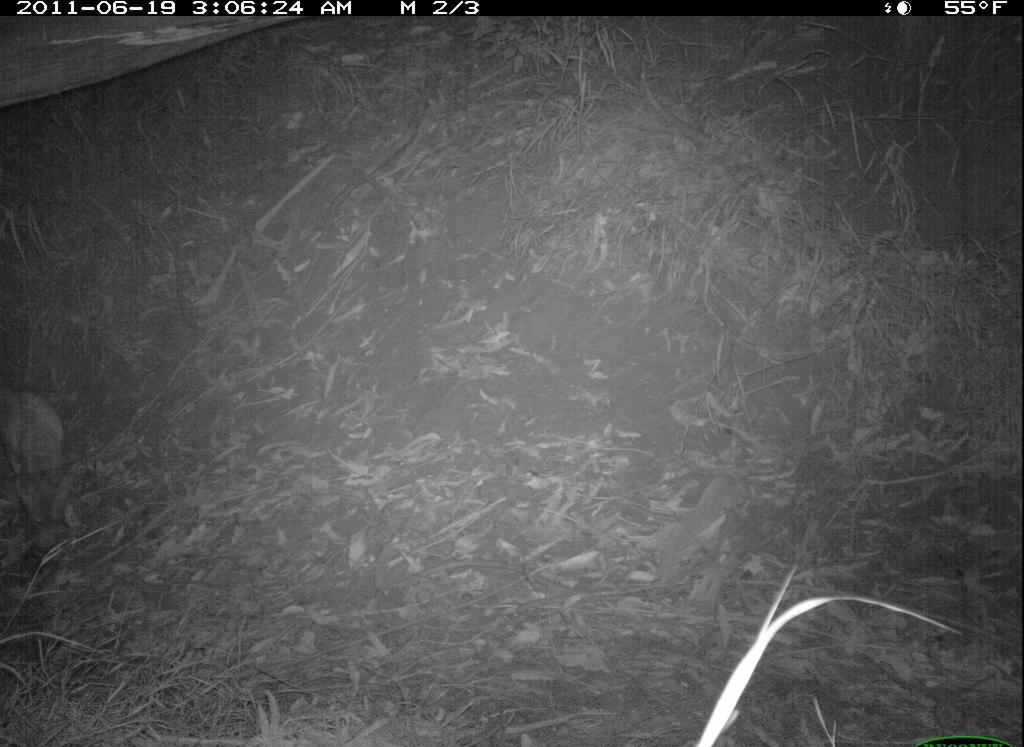coyote: (2, 391, 89, 559)
